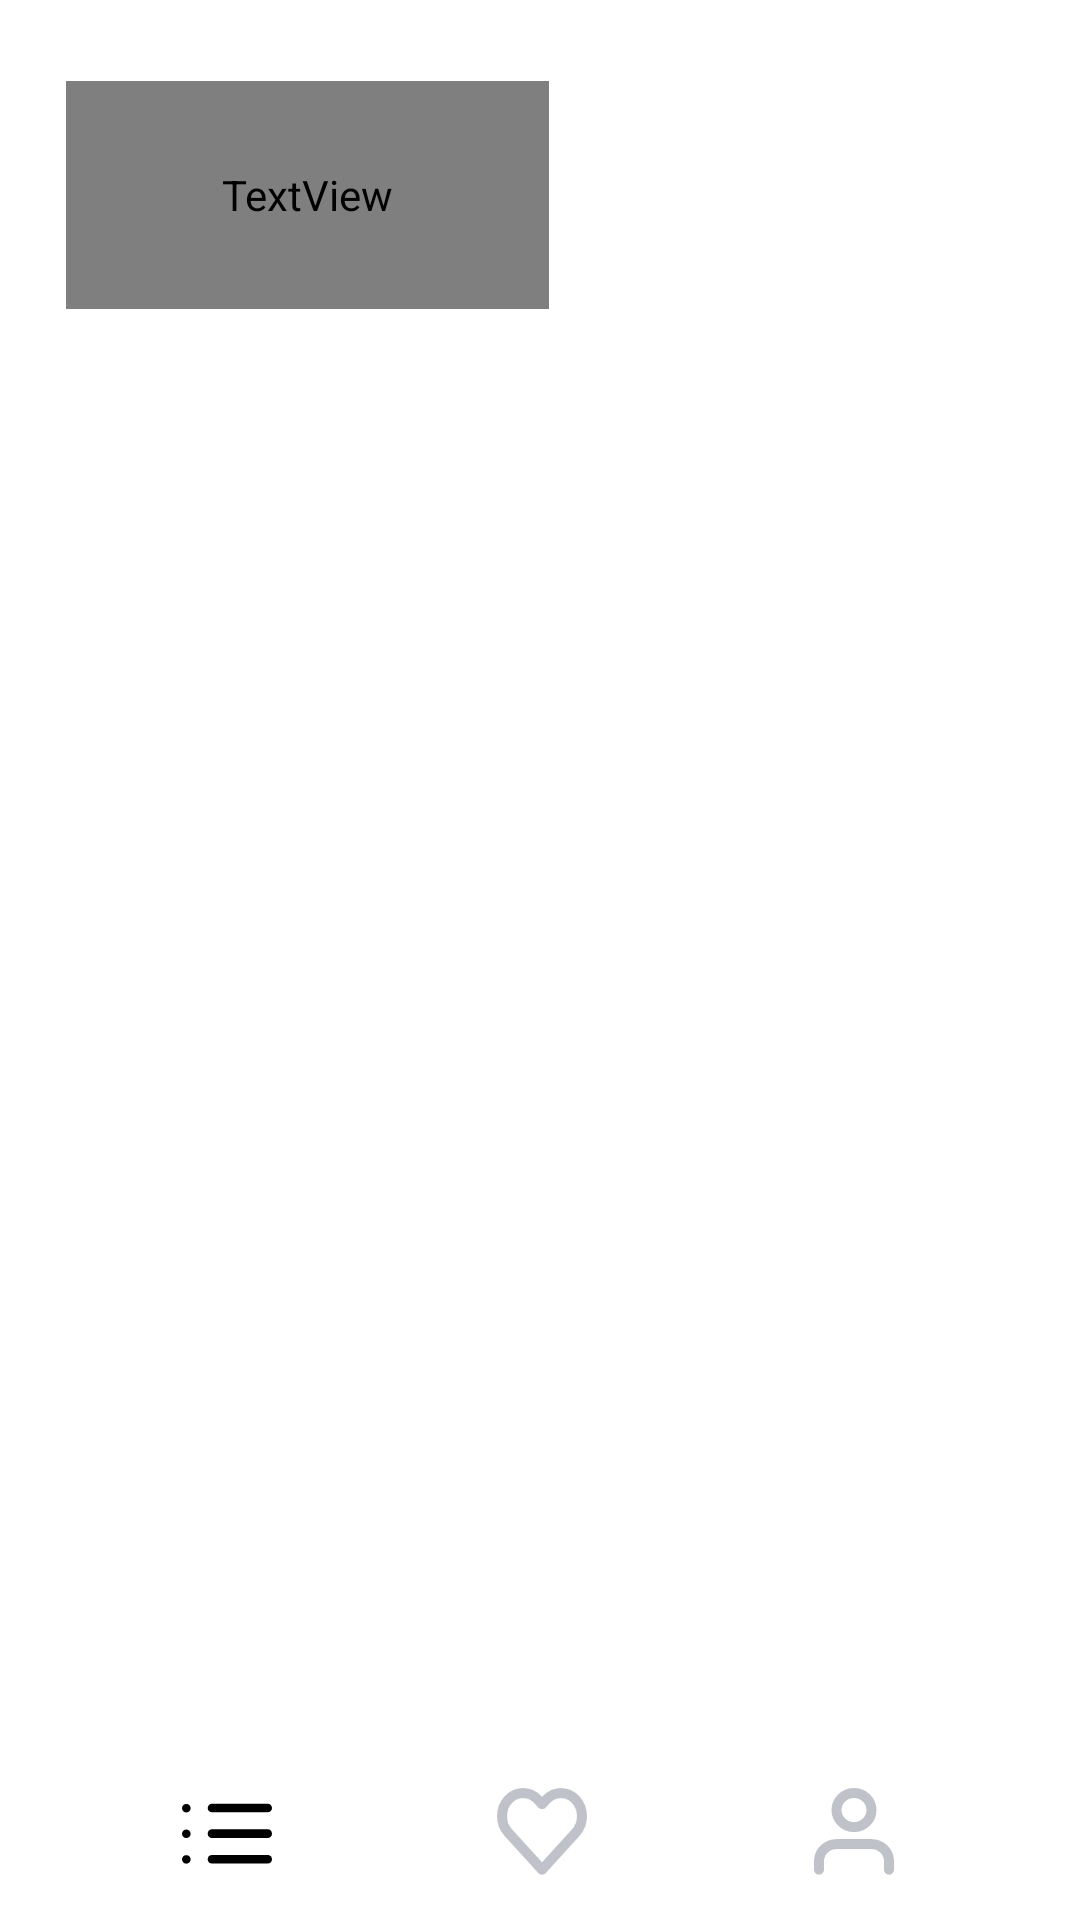

Icon bounding boxes for this 1080 x 1920 phone screenshot, format bbox=(x1, y1, x2, y2):
heart: bbox=(497, 1788, 587, 1875)
menuact: bbox=(182, 1803, 272, 1864)
